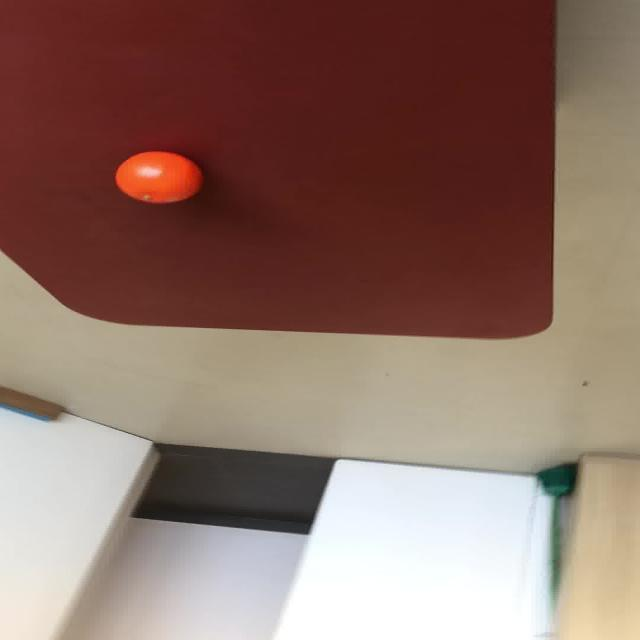orange: (113, 150, 203, 203)
